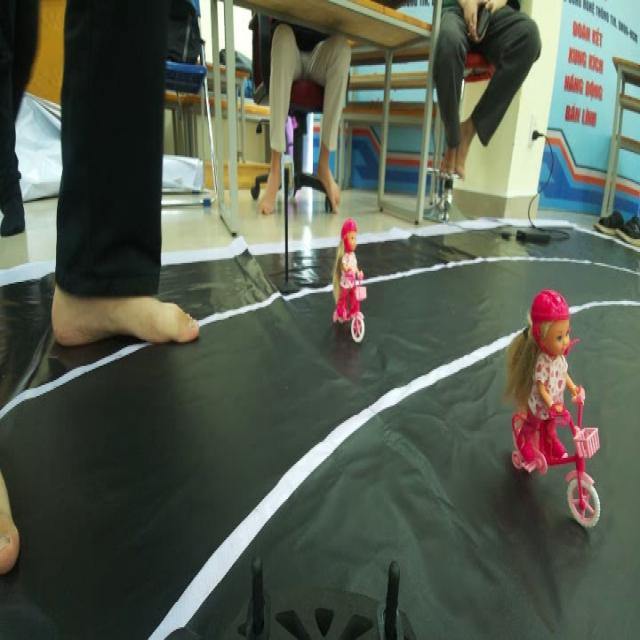pedestrian: (492, 270, 618, 540), (325, 208, 377, 350)
